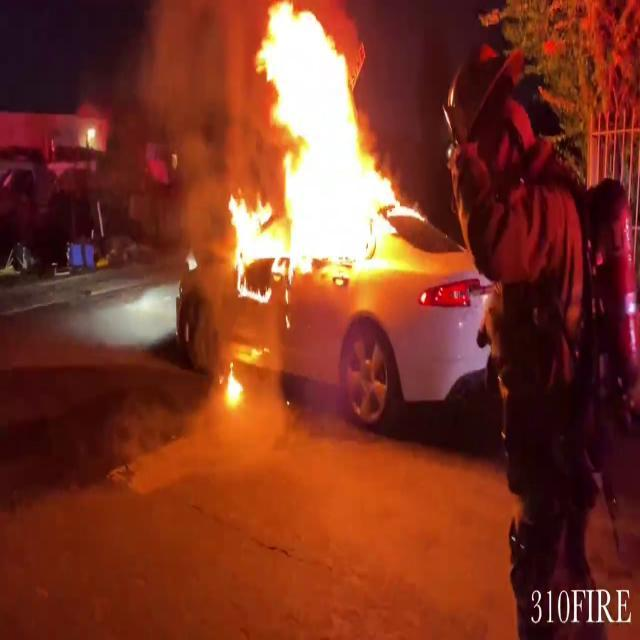Fire: (215, 1, 423, 292), (220, 361, 248, 415)
Smoke: (105, 1, 262, 216)
